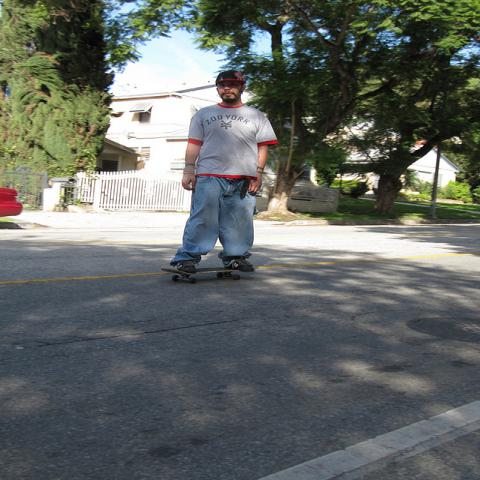car: (0, 187, 23, 219)
